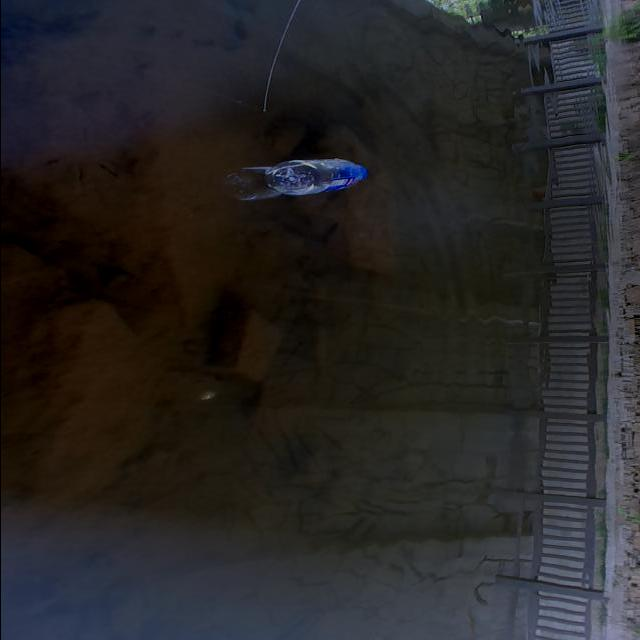bottle: (256, 146, 380, 219)
